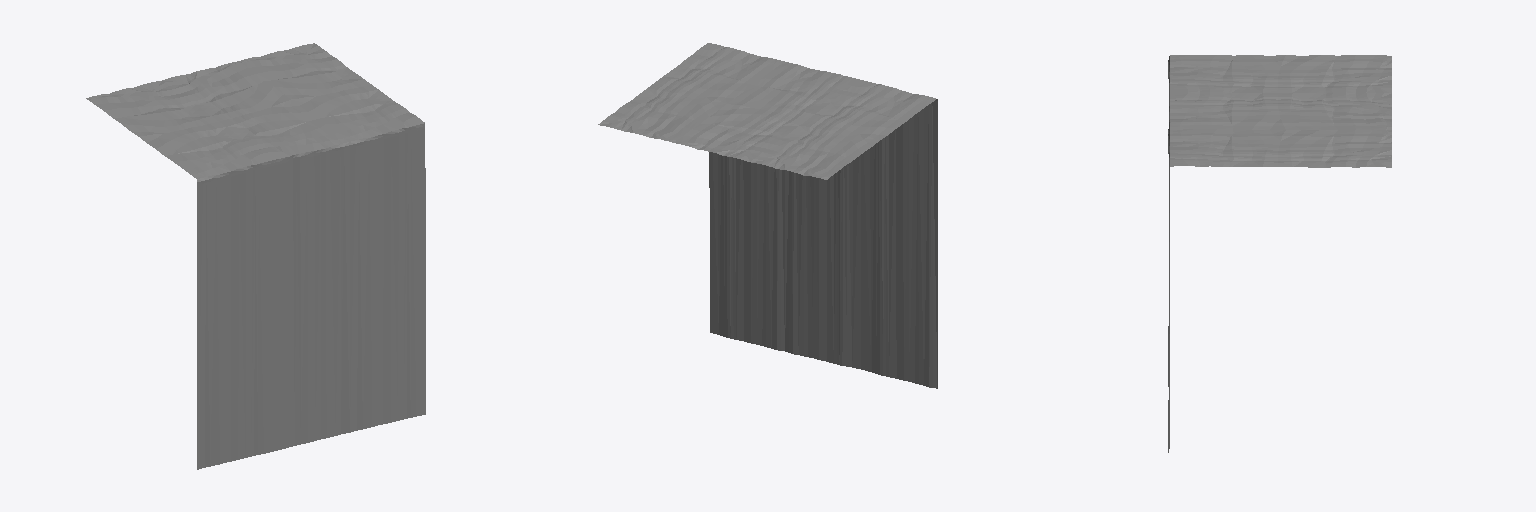
File: cpz200_obj_upwater.obj
3 renders of one model, left to right at view 1: azimuth 30°, elevation 25°; view 2: azimuth 150°, elevation 25°; view 3: azimuth 270°, elevation 25°, orthographic.
Parts seen in each view (by area): view 1: cpz_water_yy1_purple_dist; view 2: cpz_water_yy1_purple_dist; view 3: cpz_water_yy1_purple_dist.
Part boxes in pixels (x1,y1,x2,y2): cpz_water_yy1_purple_dist: (86,43,425,469); cpz_water_yy1_purple_dist: (598,43,937,388); cpz_water_yy1_purple_dist: (1168,55,1391,452).
Bounding box in the file's own units: 2962 × 3605 × 2507.